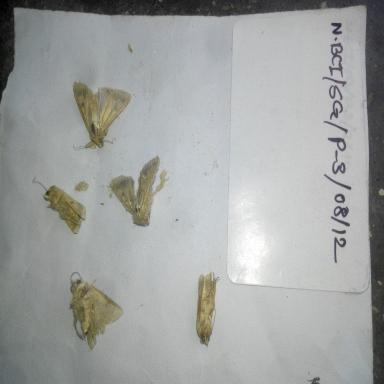abw: (66, 268, 126, 356), (69, 75, 136, 153), (107, 155, 164, 228), (28, 172, 88, 238), (192, 268, 222, 351)
